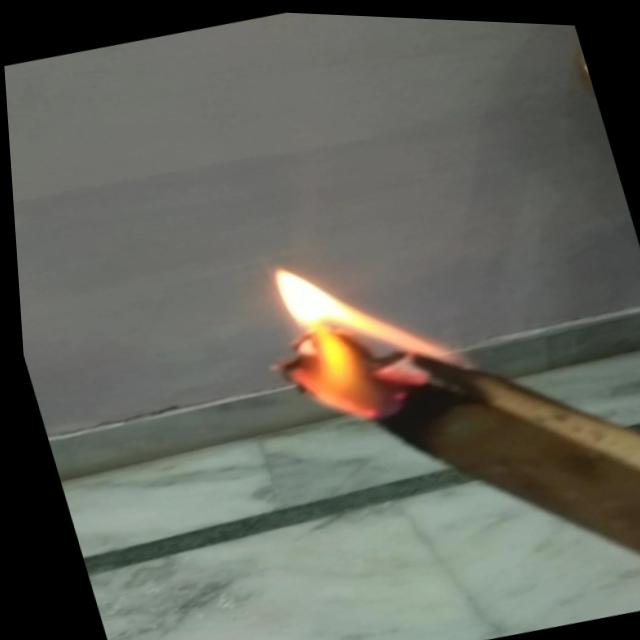fire: (213, 218, 466, 449)
